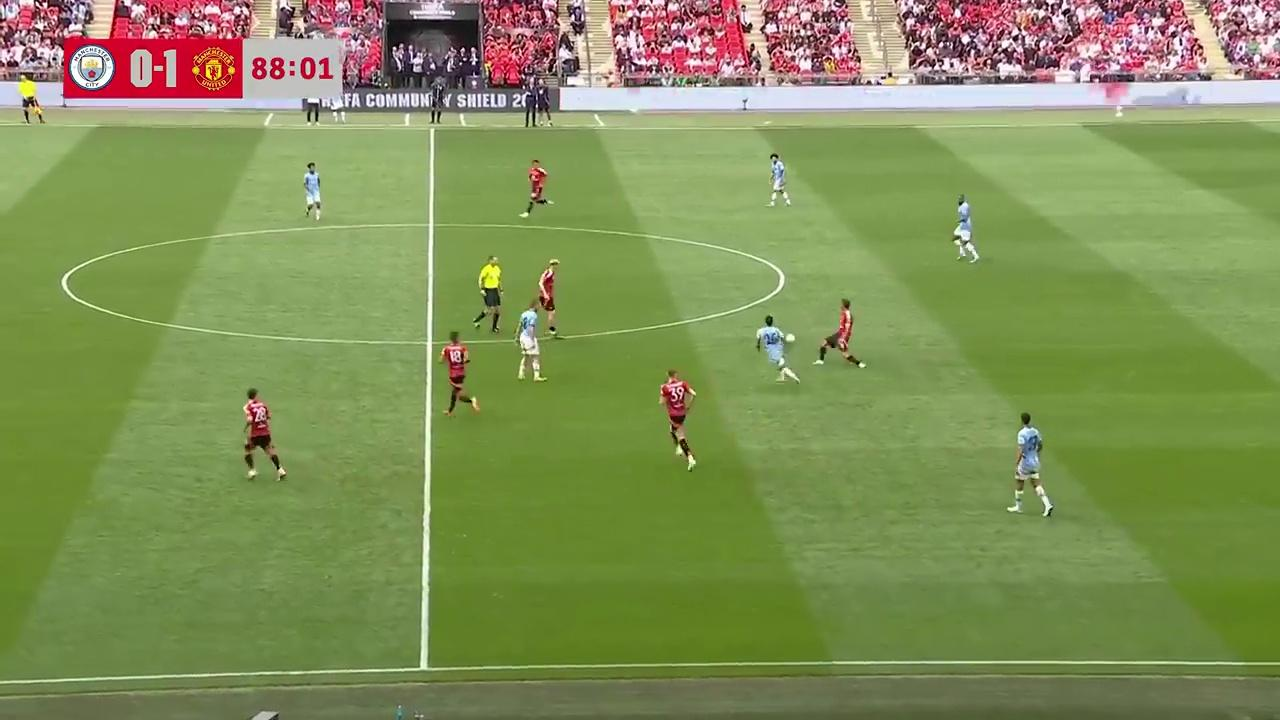ball: (785, 331, 796, 344)
player: (1006, 411, 1053, 518), (242, 388, 287, 481), (659, 368, 696, 470), (439, 330, 481, 417), (816, 298, 864, 368), (755, 315, 800, 383), (514, 302, 546, 382), (522, 159, 551, 217), (535, 260, 558, 332), (952, 203, 979, 263), (767, 152, 791, 206), (303, 161, 322, 220)
referee: (473, 255, 503, 334), (19, 73, 44, 125)
